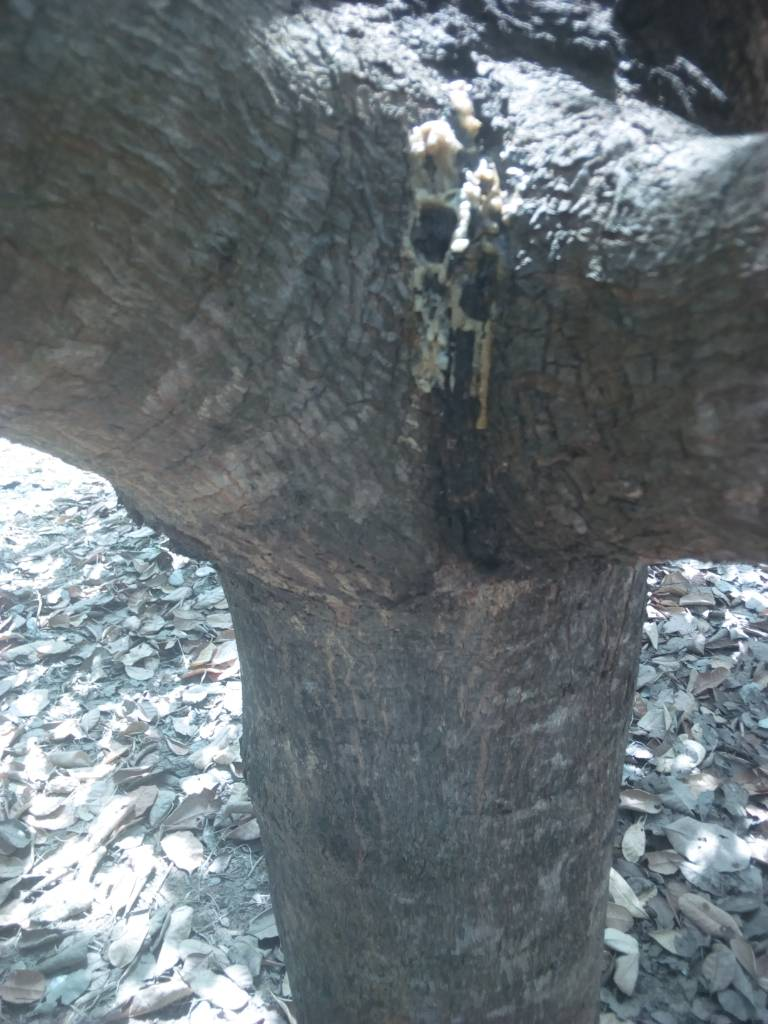Gommose: (357, 121, 563, 594)
